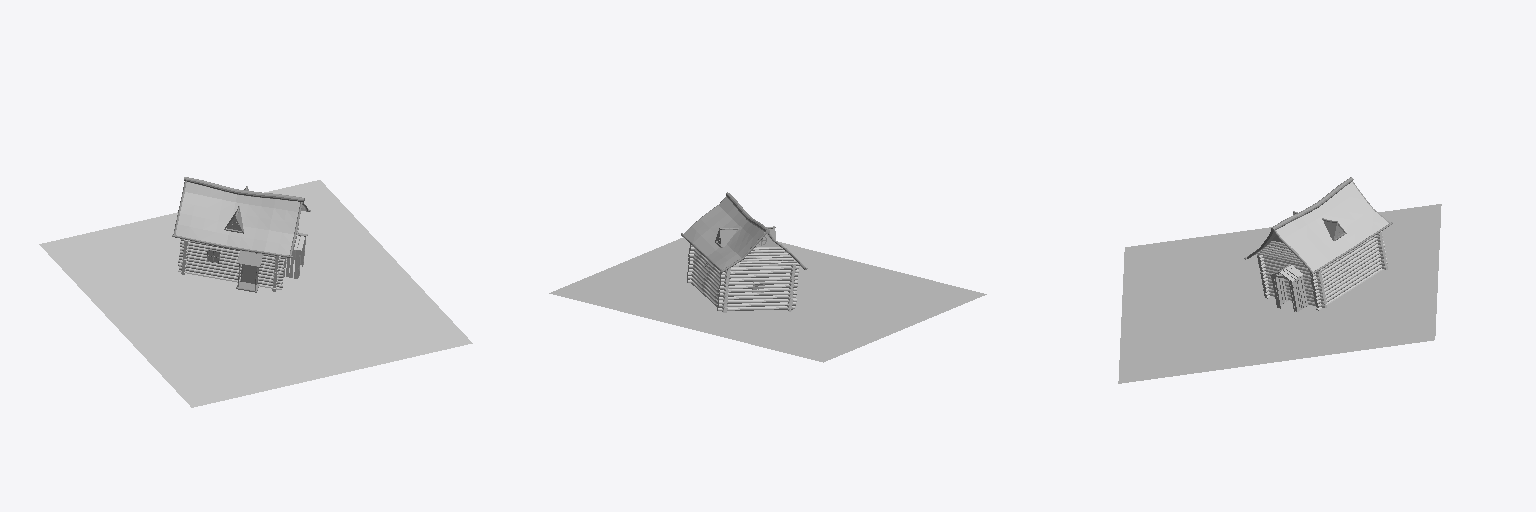
The model's file is logcabin.obj.
3 renders of one model, left to right at view 1: azimuth 30°, elevation 25°; view 2: azimuth 150°, elevation 25°; view 3: azimuth 270°, elevation 25°, orthographic.
Parts seen in each view (by area): view 1: Plane, roof, log_walls_logs, cabin, shed; view 2: Plane, log_walls_logs, roof, cabin; view 3: Plane, roof, log_walls_logs, cabin, shed.
Part boxes in pixels (x1,y1,x2,y2): Plane: (39, 180, 472, 407); roof: (176, 182, 305, 254); log_walls_logs: (178, 225, 298, 291); cabin: (172, 177, 310, 292); shed: (284, 232, 307, 278); Plane: (549, 237, 986, 362); log_walls_logs: (687, 244, 799, 312); roof: (684, 197, 799, 269); cabin: (681, 192, 807, 292); Plane: (1118, 204, 1441, 383); roof: (1253, 182, 1388, 271); log_walls_logs: (1257, 231, 1387, 310); cabin: (1244, 177, 1392, 274); shed: (1269, 265, 1307, 311).
Bounding box in the file's own units: 16.32 × 6.76 × 16.11.